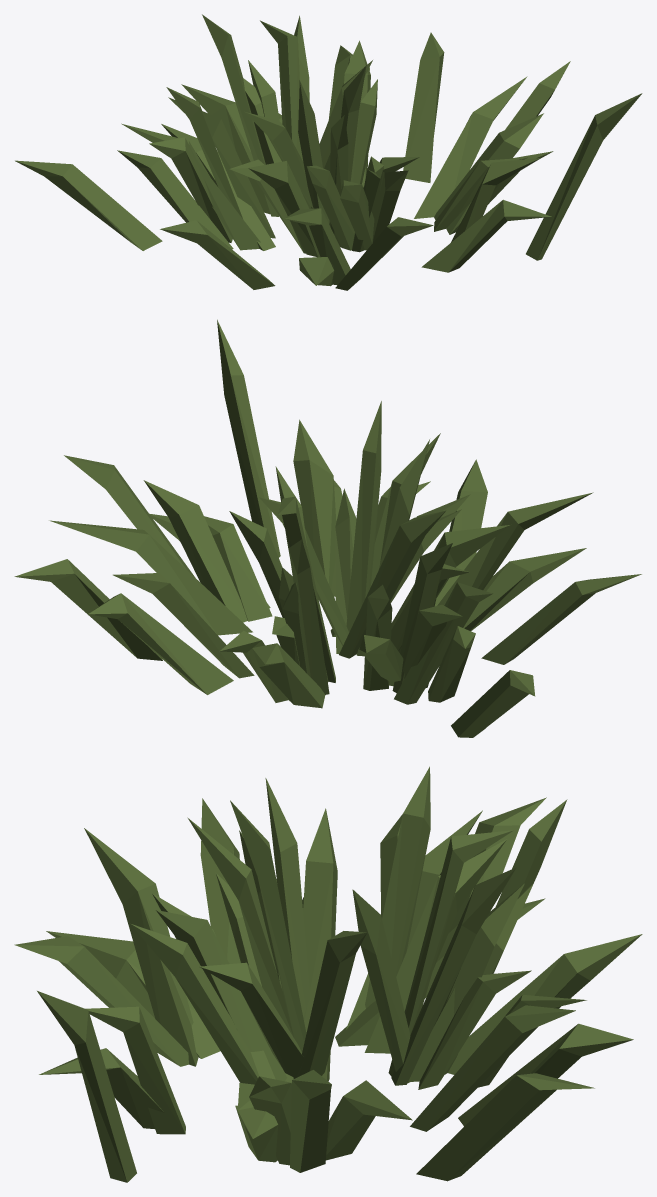
The model's file is SM_Env_Grass_02.glb.
The picture shows the model from 3 angles, top to bottom: view 1: azimuth 30°, elevation 25°; view 2: azimuth 150°, elevation 25°; view 3: azimuth 270°, elevation 25°; orthographic projection. The views are drawn at different scales.
Parts seen in each view (by area): view 1: SM_Env_Grass_02_part00; view 2: SM_Env_Grass_02_part00; view 3: SM_Env_Grass_02_part00.
Part boxes in pixels (<box>): SM_Env_Grass_02_part00: <box>15,14,642,290</box>; SM_Env_Grass_02_part00: <box>14,319,641,737</box>; SM_Env_Grass_02_part00: <box>14,766,642,1182</box>.
Size of the model in its own units: 4.03 by 1.57 by 3.15.
1 material, 1 textured.
